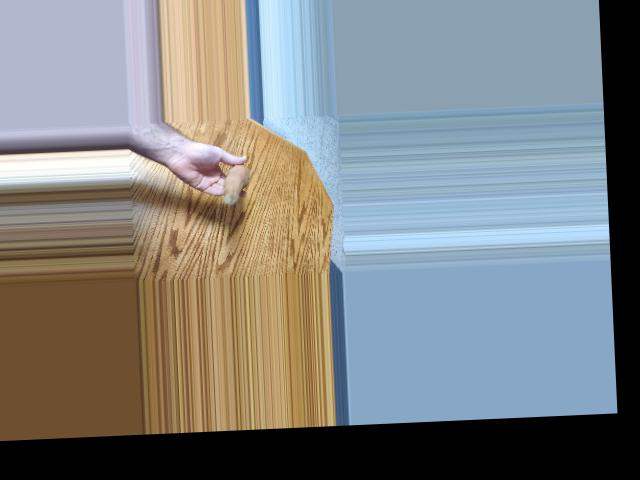sweet_potato: (218, 161, 246, 205)
